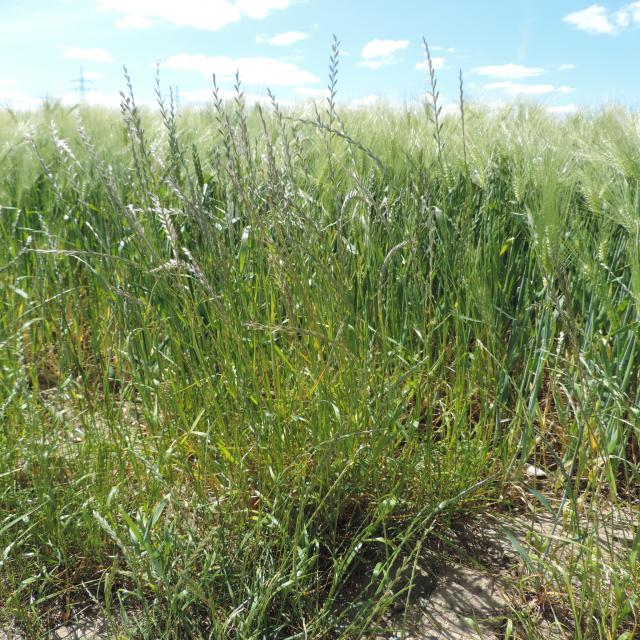Lolium: (2, 31, 636, 636), (270, 109, 464, 314), (127, 72, 208, 403), (321, 36, 350, 355)
